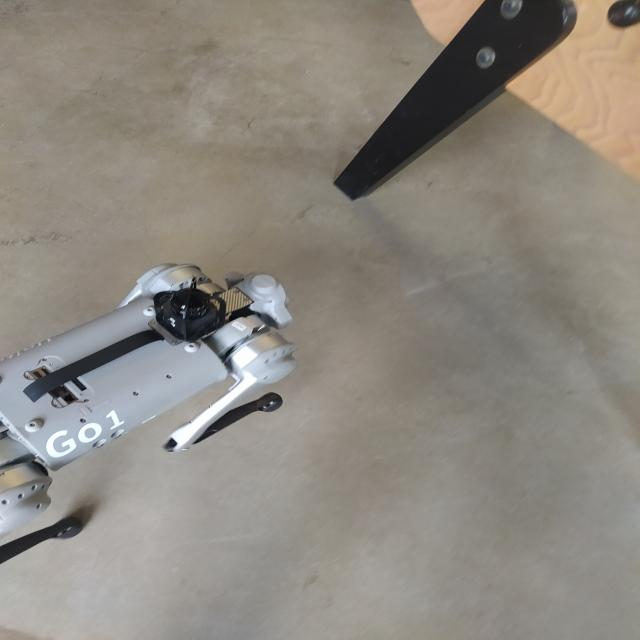unitree-go1-robot: (1, 254, 309, 586)
